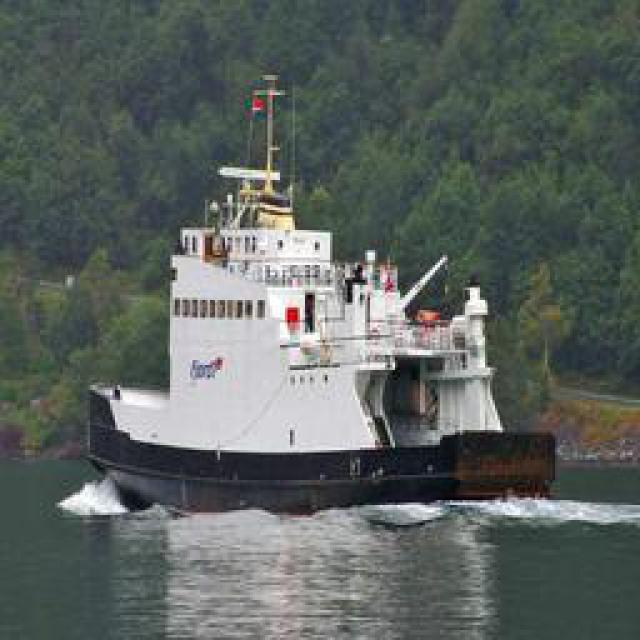Ship: (88, 45, 543, 510)
